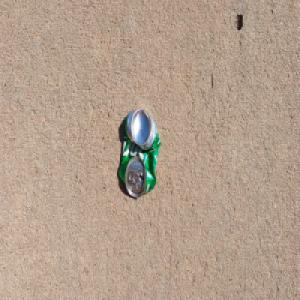SodaCan: (118, 107, 161, 199)
